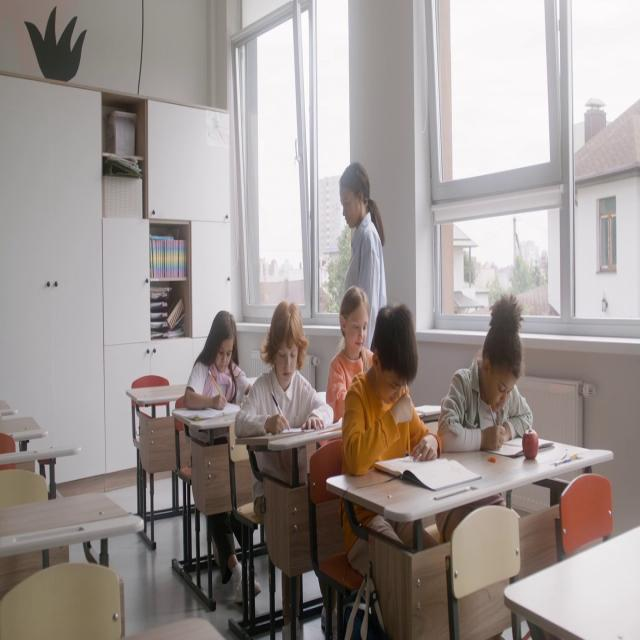reading: (325, 286, 370, 433)
writing: (350, 304, 476, 638), (184, 314, 264, 601), (439, 295, 532, 453), (238, 302, 332, 456)
